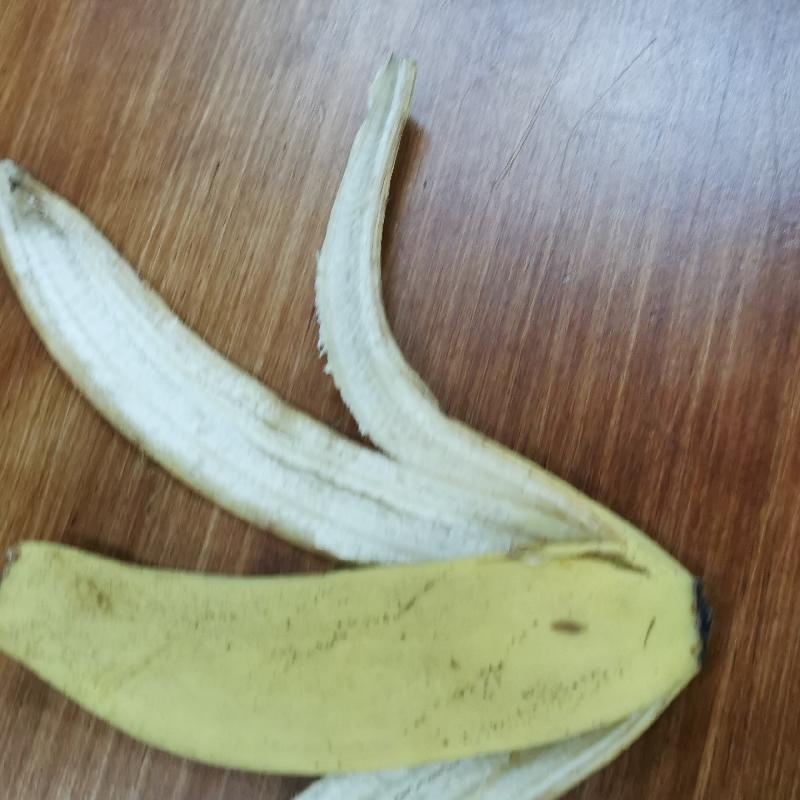bananas: (8, 57, 713, 792)
